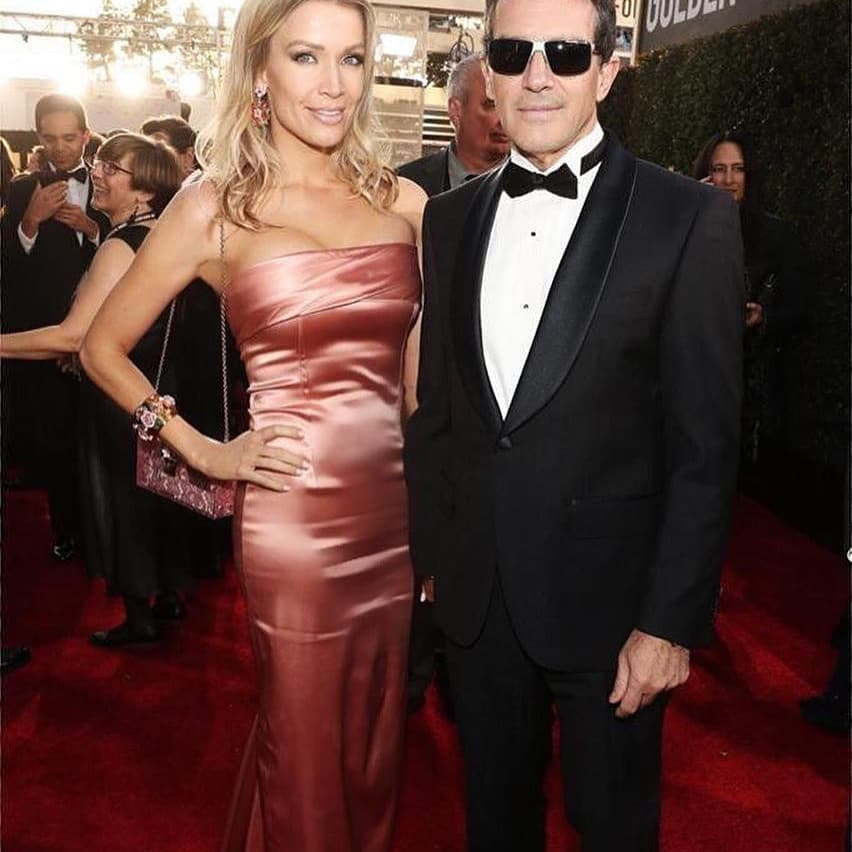hand: (212, 428, 303, 485)
